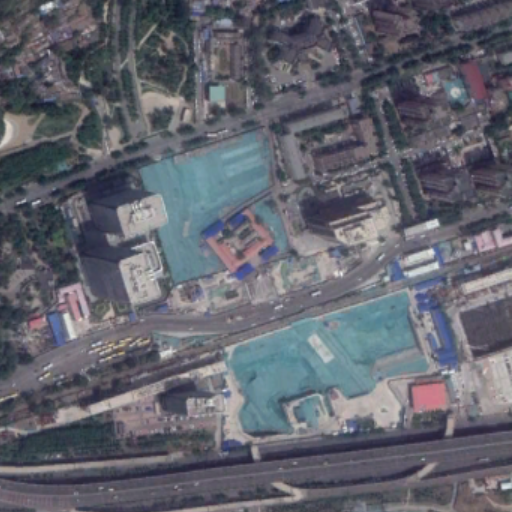cw: (222, 291, 432, 437), (140, 131, 291, 285)
